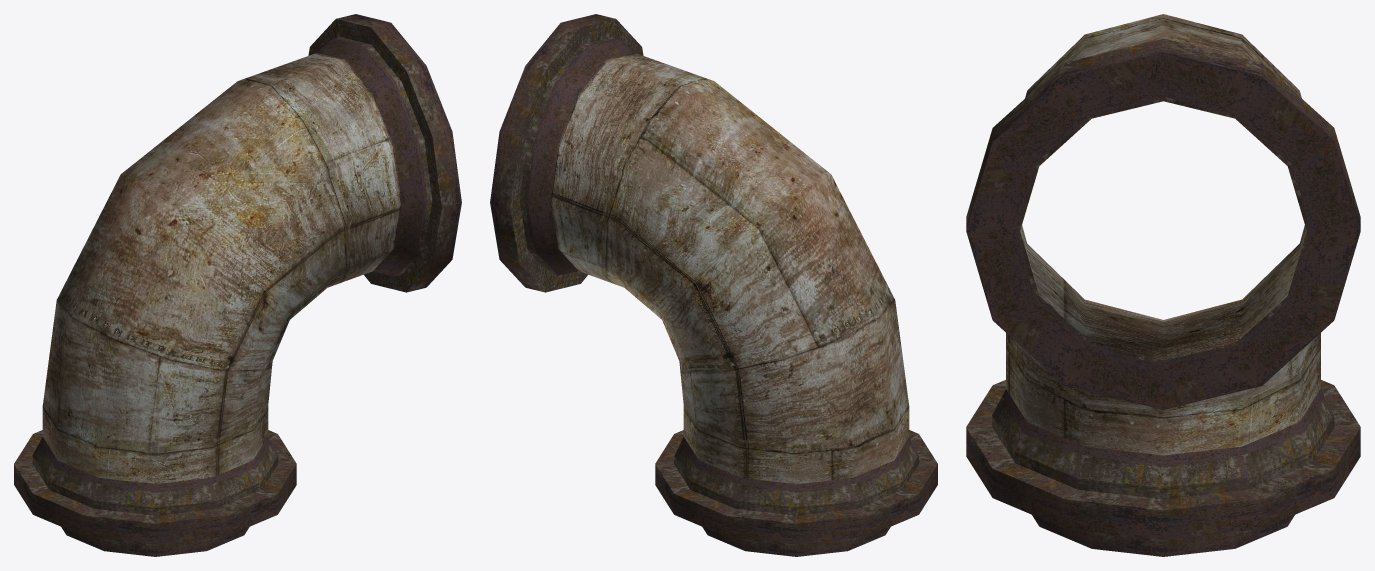
Rendered from railpipe_s03.glb.
The picture shows the model from 3 angles, left to right: view 1: azimuth 30°, elevation 25°; view 2: azimuth 150°, elevation 25°; view 3: azimuth 270°, elevation 25°; orthographic projection. The views are drawn at different scales.
Bounding box in the file's own units: 60.57 × 69.97 × 41.38.
Materials: 3 (3 with a texture image).
